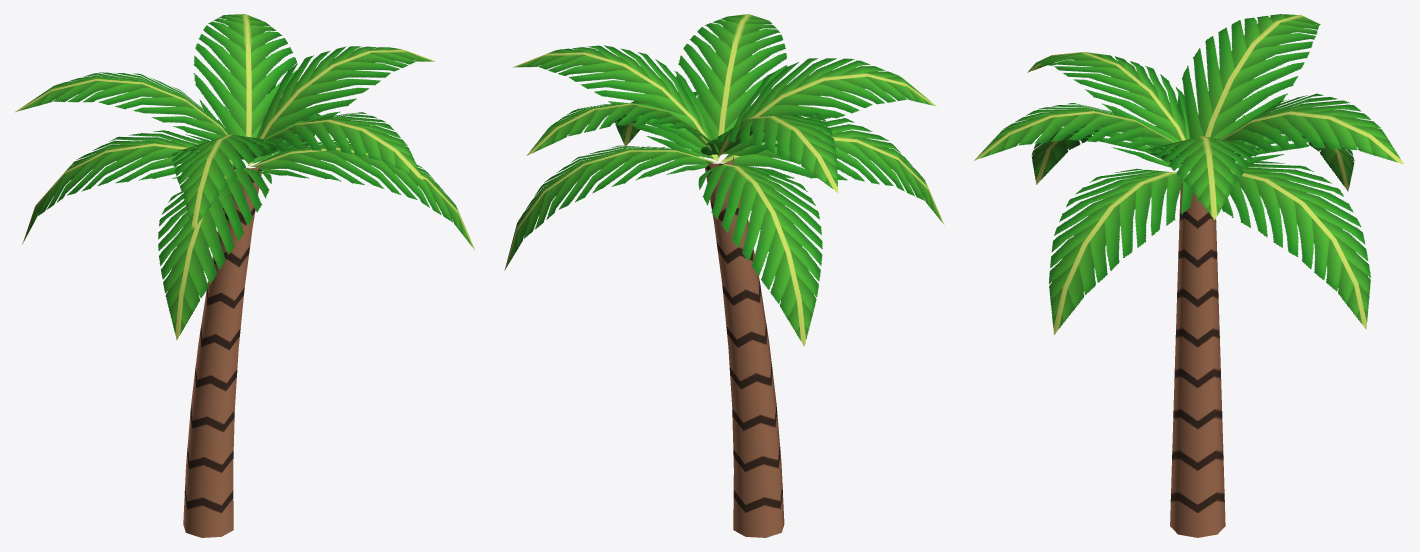
File: palmier.glb
The picture shows the model from 3 angles, left to right: view 1: azimuth 30°, elevation 25°; view 2: azimuth 150°, elevation 25°; view 3: azimuth 270°, elevation 25°; orthographic projection. The views are drawn at different scales.
Visible parts, largest first — view 1: palmier_final; view 2: palmier_final; view 3: palmier_final.
Part boxes in pixels (bbox=[...]): palmier_final: bbox=[15, 14, 475, 537]; palmier_final: bbox=[504, 14, 944, 537]; palmier_final: bbox=[974, 14, 1403, 537].
Size of the model in its own units: 3.29 by 3.7 by 3.11.
Materials: 2 (2 with a texture image).
